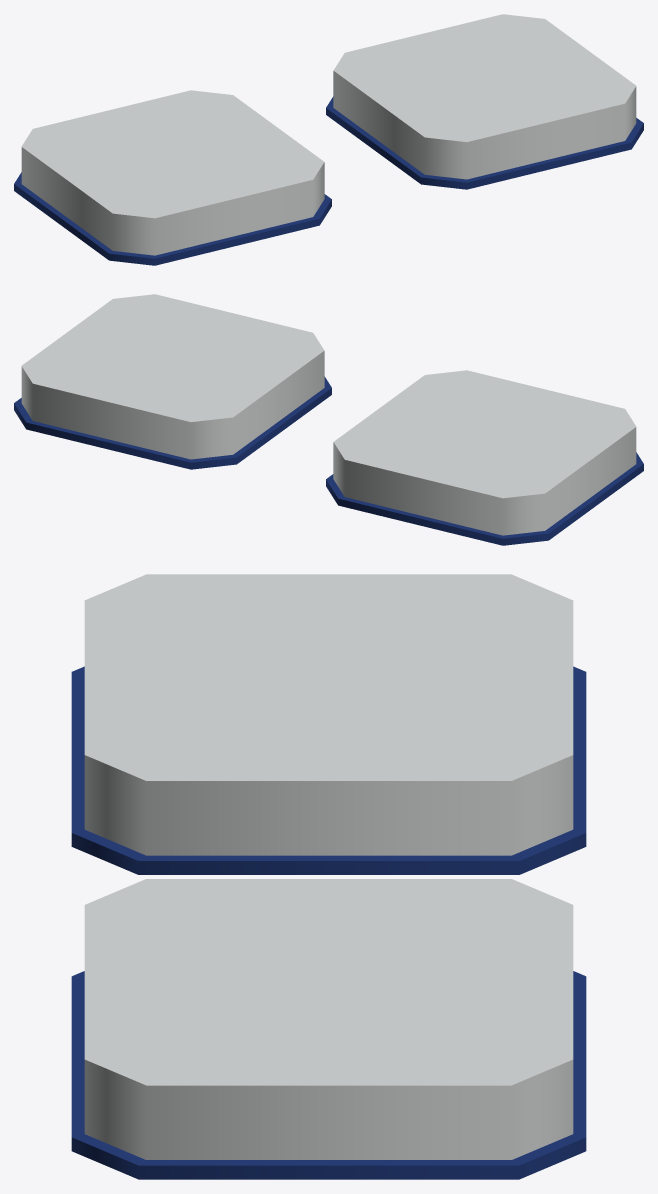
File: mo4_autodoc.obj
3 views of the same model, one above another, from view 1: azimuth 30°, elevation 25°; view 2: azimuth 150°, elevation 25°; view 3: azimuth 270°, elevation 25° (orthographic). The views are drawn at different scales.
Parts seen in each view (by area): view 1: mo4_autodoc; view 2: mo4_autodoc; view 3: mo4_autodoc.
Part boxes in pixels (x1,y1,x2,y2): mo4_autodoc: [14, 14, 643, 265]; mo4_autodoc: [14, 294, 643, 545]; mo4_autodoc: [71, 574, 586, 1179].
Size of the model in its own units: 2.4 by 0.19 by 1.
